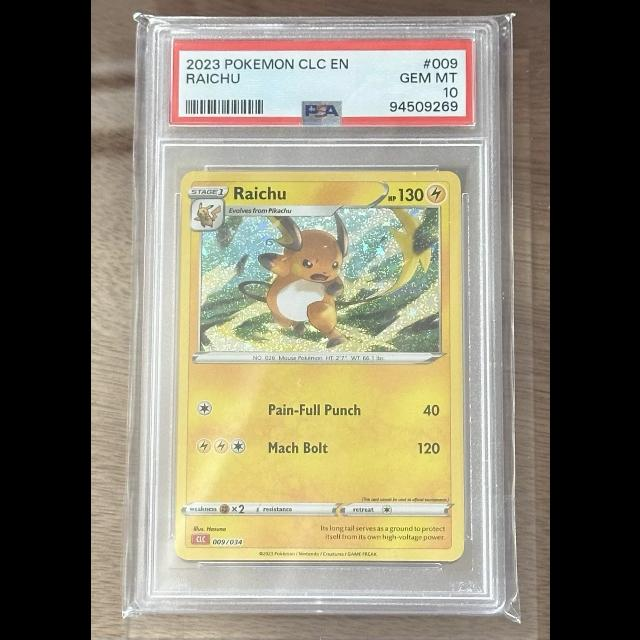card: (173, 171, 464, 562)
psa_label: (170, 36, 474, 125)
psa_slab: (134, 16, 506, 613)
